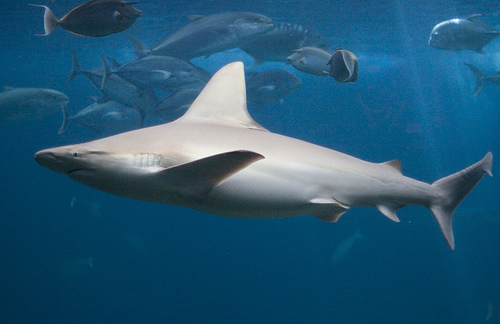shark: (22, 51, 500, 263)
